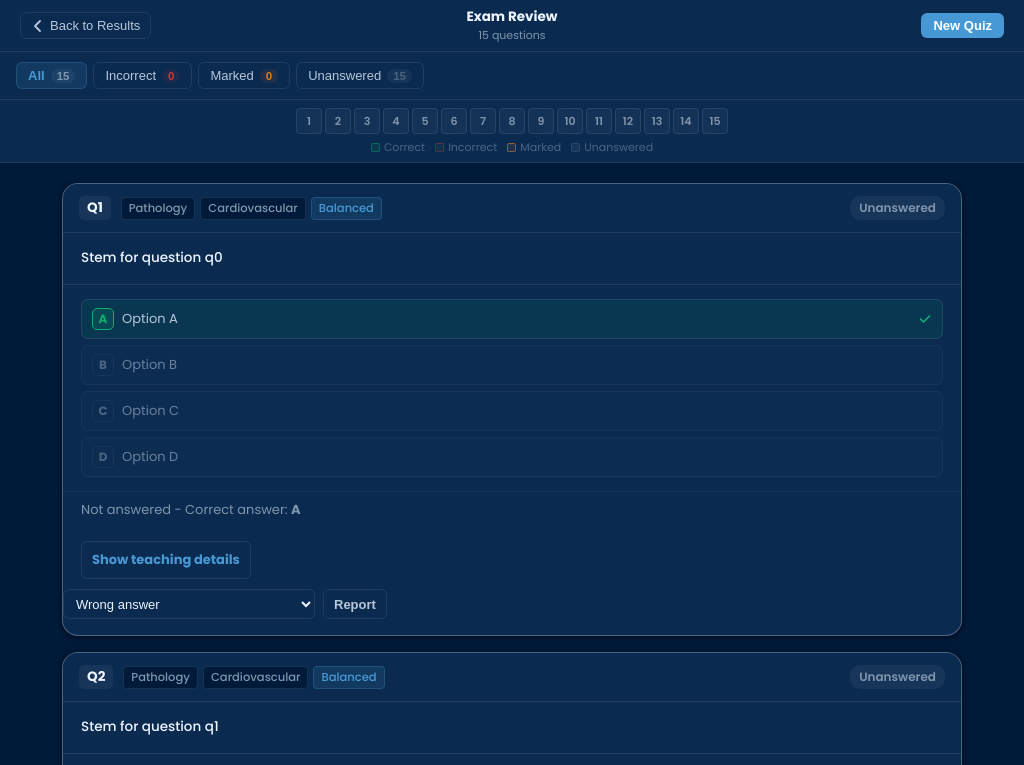
Test: ExamReview — long review renders all cards (Test 6) › collapses teaching details by default for a long all-questions review
Expected: the text "Explanation for q0" is not shown
Click the button "Show teaching details". click: (166, 560)
box: [81, 541, 251, 579]
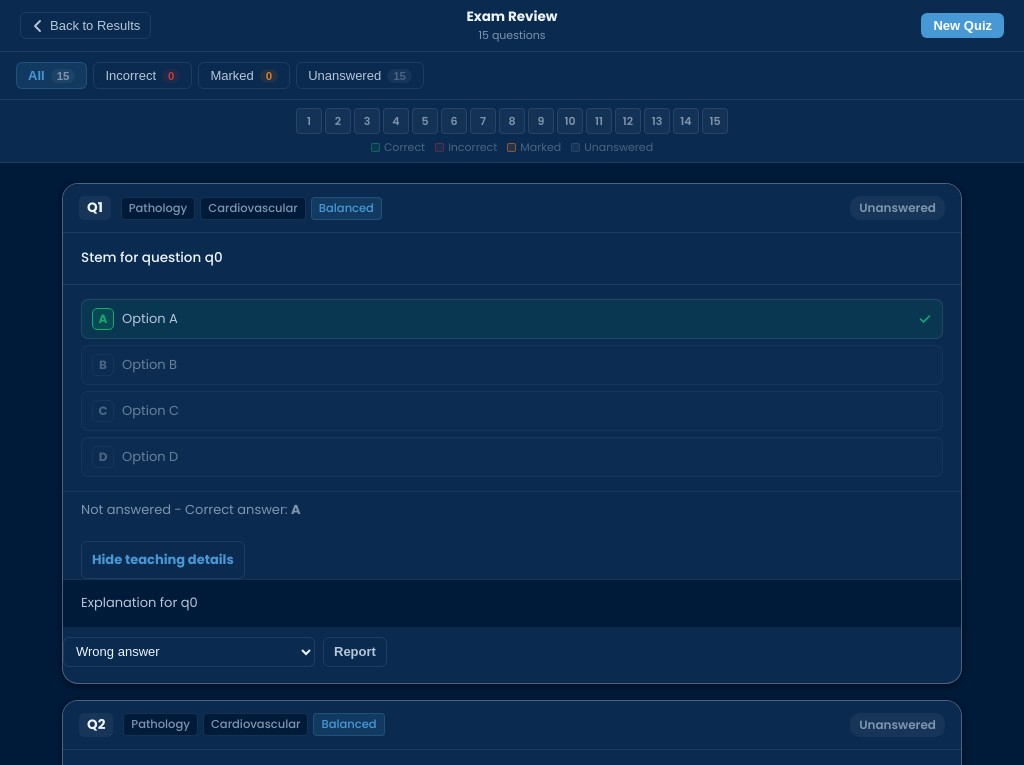
Result: the text "Explanation for q0" is shown at [81, 593, 198, 612]
